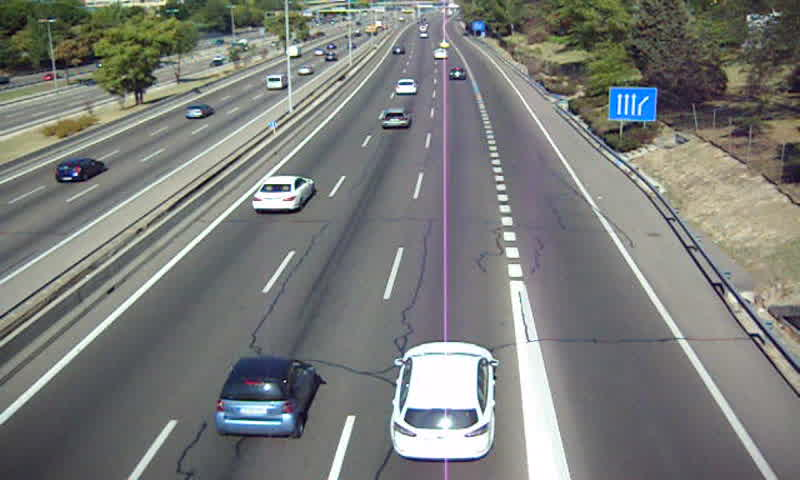car: (391, 340, 497, 461), (214, 358, 318, 441), (249, 175, 315, 212), (381, 108, 411, 130), (396, 78, 418, 94), (448, 67, 467, 80)
